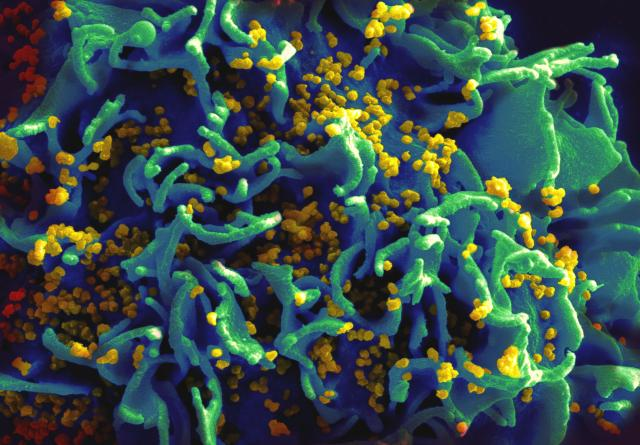COVID19: (78, 48, 435, 334)
